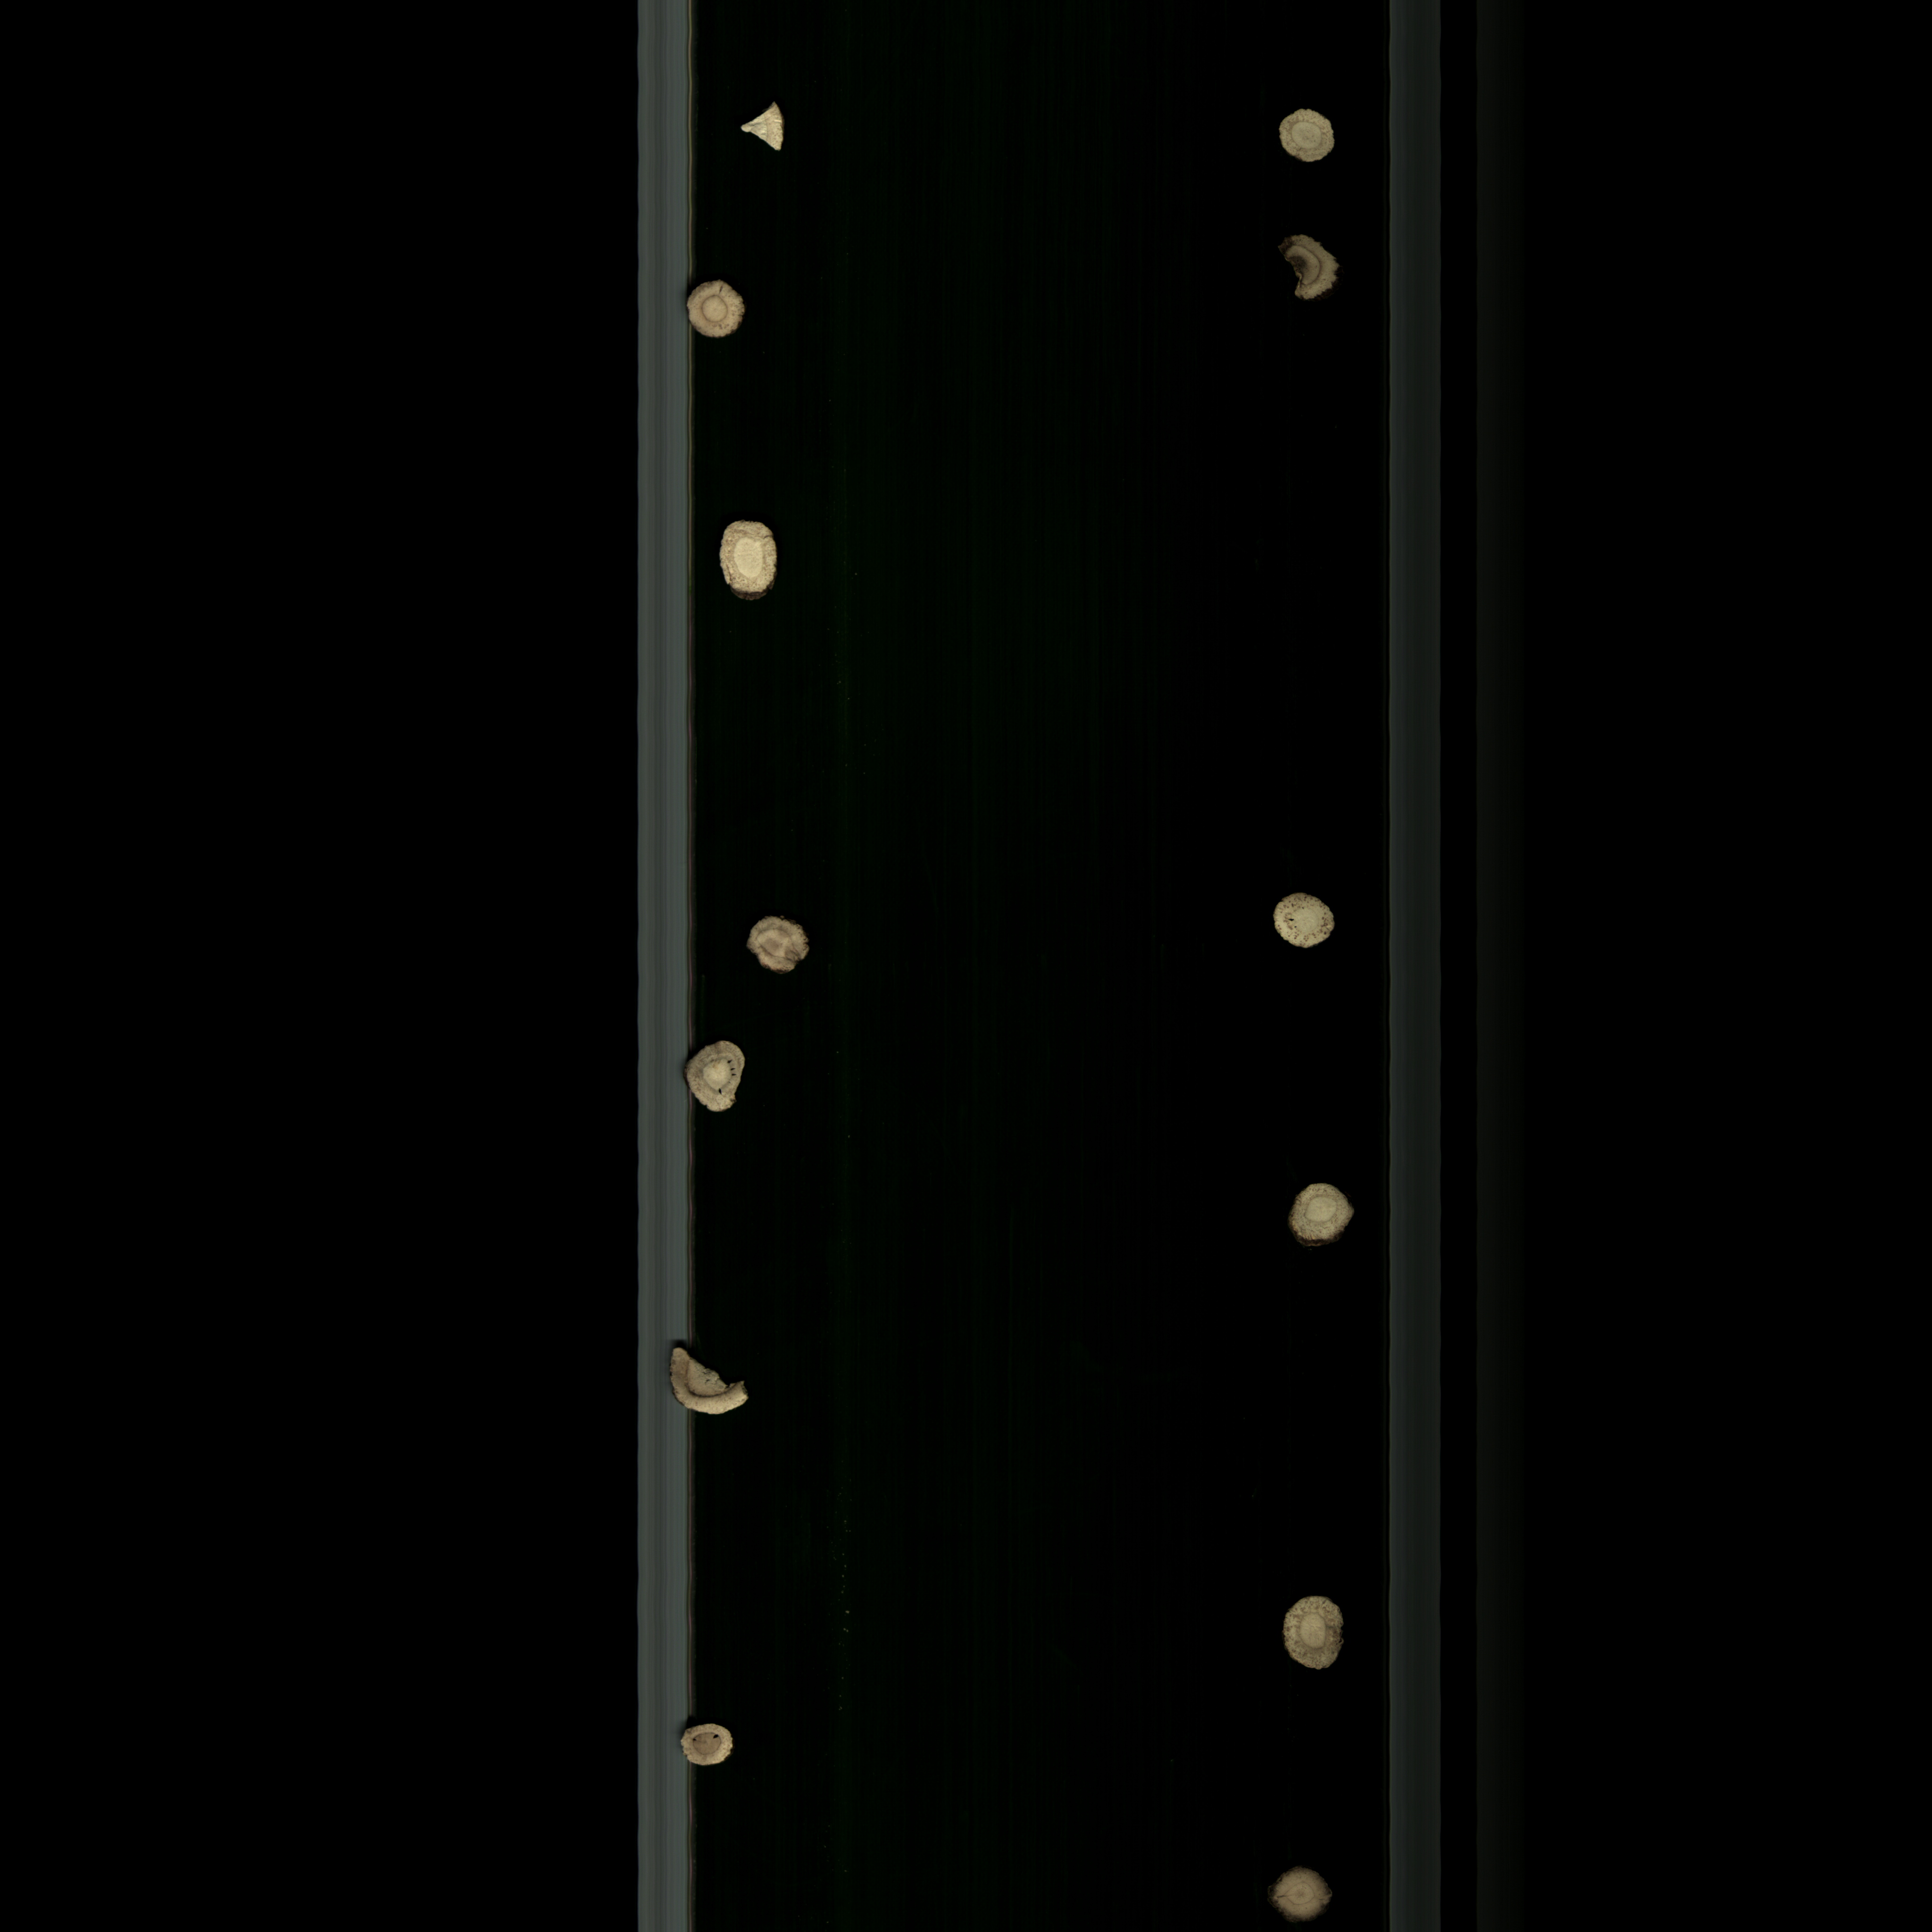distortion: (736, 904, 823, 985)
dreg: (731, 90, 800, 163)
hole: (672, 1031, 757, 1120), (1260, 883, 1350, 962)
moldy: (655, 1339, 763, 1435), (1270, 223, 1355, 317), (1274, 1173, 1362, 1256), (1254, 1859, 1348, 1932), (672, 274, 759, 350), (676, 1716, 748, 1780)
